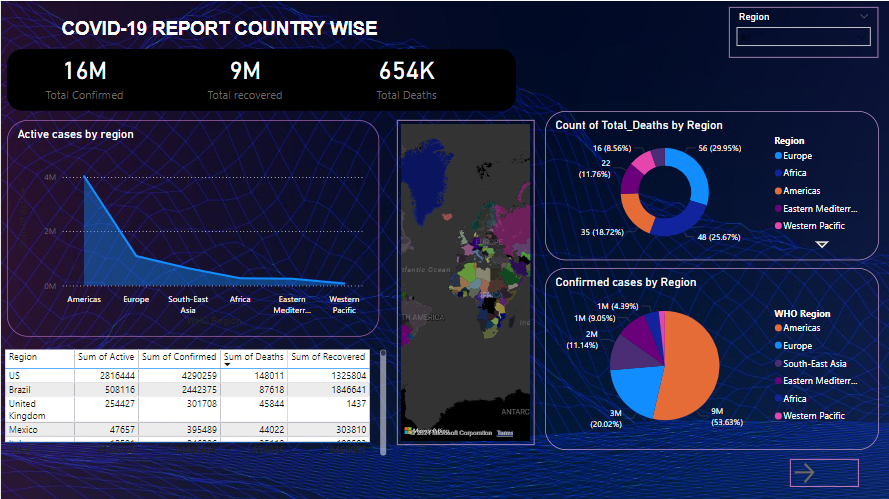

The page's visual inventory and layout, read from the dashboard file:
{"tool":"powerbi","page":{"name":"COVID-19 REPORT COUNTRY WISE","canvas":[1280,720],"ordinal":0},"visuals":[{"type":"areaChart","title":"Active cases by region","fields":{"Y":["Sum(country_wise_latest.Active)"],"Category":["country_wise_latest.WHO Region"]},"box":[8.6,171.4,535.7,312.5],"z":0},{"type":"pieChart","title":"Confirmed cases by Region","fields":{"Y":["Sum(country_wise_latest.Confirmed)"],"Category":["country_wise_latest.WHO Region"]},"box":[783.4,384.5,481,262.1],"z":1000},{"type":"tableEx","fields":{"Values":["country_wise_latest.Region","Sum(country_wise_latest.Active)","Sum(country_wise_latest.Confirmed)","Sum(country_wise_latest.Deaths)","Sum(country_wise_latest.Recovered)"]},"box":[0,496.7,560,163.3],"z":2000},{"type":"textbox","box":[82.1,20.2,587.5,61.9],"z":3000},{"type":"filledMap","fields":{"Series":["country_wise_latest.Active"],"Category":["country_wise_latest.Region"]},"box":[570,171.7,198.3,468.3],"z":4000},{"type":"shape","box":[8.6,69.1,733,89.3],"z":5000},{"type":"card","fields":{"Values":["country_wise_latest.Total Confirmed"]},"box":[11.3,58.2,217.4,100.8],"z":6000},{"type":"card","fields":{"Values":["country_wise_latest.Total Deaths"]},"box":[475,58.2,217.4,100.8],"z":7000},{"type":"card","fields":{"Values":["country_wise_latest.Total recovered"]},"box":[241.7,58.2,218.9,100.8],"z":8000},{"type":"slicer","fields":{"Values":["country_wise_latest.WHO Region"]},"box":[1048.3,8.6,214.6,73.4],"z":9000},{"type":"donutChart","title":"Count of Total_Deaths by Region","fields":{"Category":["country_wise_latest.WHO Region"],"Y":["CountNonNull(country_wise_latest.Total_Deaths)"]},"box":[783.4,158.4,481,214.6],"z":10000},{"type":"actionButton","box":[1136.2,659.5,99.4,40.3],"z":11000}]}

Visuals, with their boxes in screenshot pixels (x1, y1, x2, y2), scaled from the page's 1280x720 canvas onto the 889x499 screenshot:
"Active cases by region" areaChart: (6, 119, 378, 335)
"Confirmed cases by Region" pieChart: (544, 266, 878, 448)
tableEx - country_wise_latest.Region x Sum(country_wise_latest.Active): (0, 344, 389, 457)
textbox: (57, 14, 465, 57)
filledMap - country_wise_latest.Active x country_wise_latest.Region: (396, 119, 534, 444)
shape: (6, 48, 515, 110)
card - country_wise_latest.Total Confirmed: (8, 40, 159, 110)
card - country_wise_latest.Total Deaths: (330, 40, 481, 110)
card - country_wise_latest.Total recovered: (168, 40, 320, 110)
slicer - country_wise_latest.WHO Region: (728, 6, 877, 57)
"Count of Total_Deaths by Region" donutChart: (544, 110, 878, 259)
actionButton: (789, 457, 858, 485)
